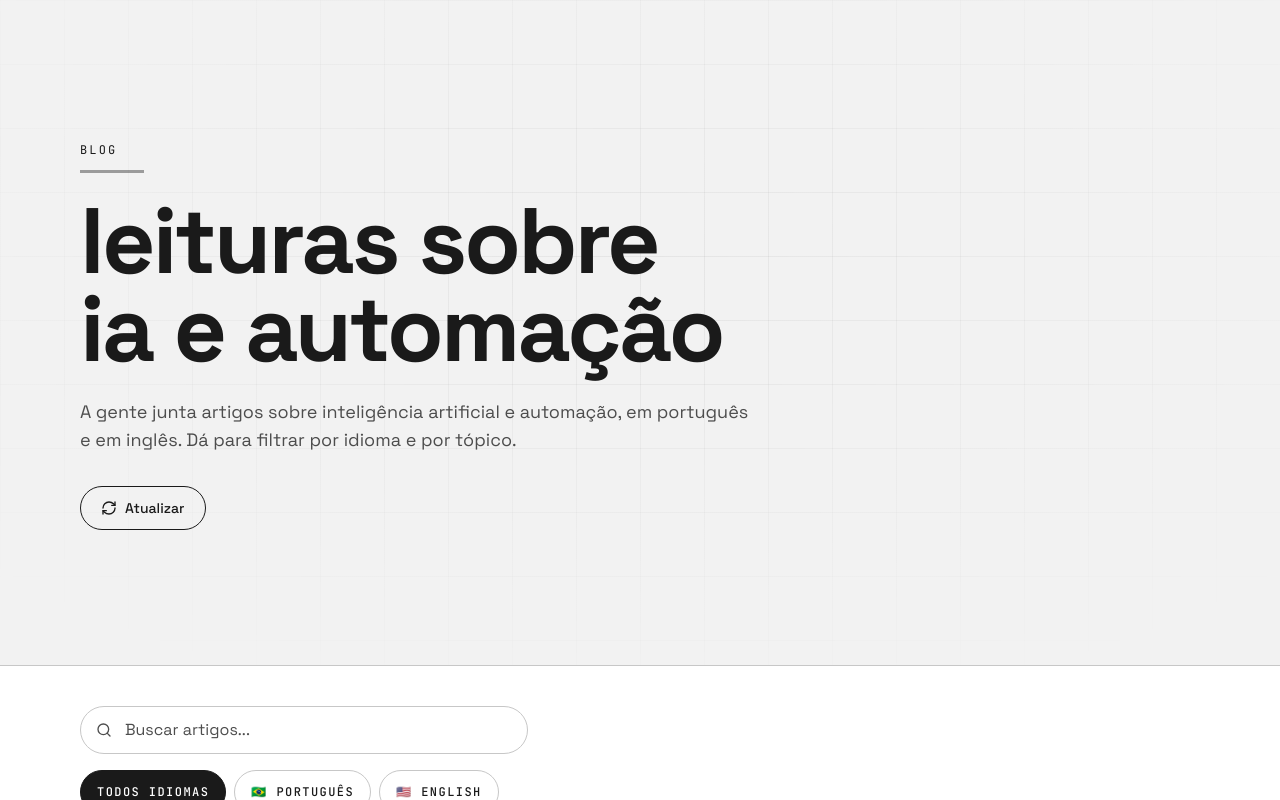
Scenario: BlogPage search and filters › names the clear button, makes it a plain button, and gives it the 44px class (jsdom paints no boxes: e2e measures the target)
The width and height of the screenshot is (1280, 800).
Type "Article" into the field labelled "Buscar artigos" at (304, 730), box [80,706,528,754]
(page scrolled)
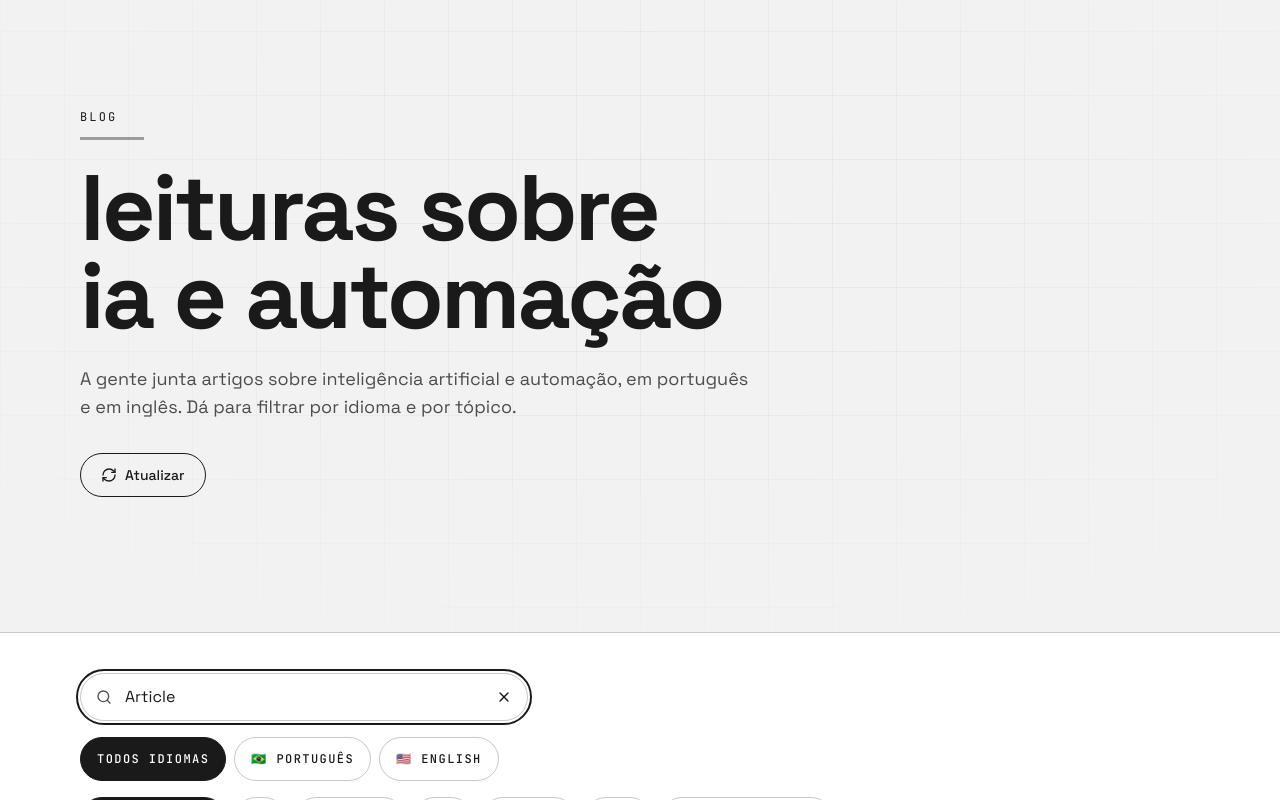
Click the button named "Limpar busca" at (504, 697), box [482,675,526,719]
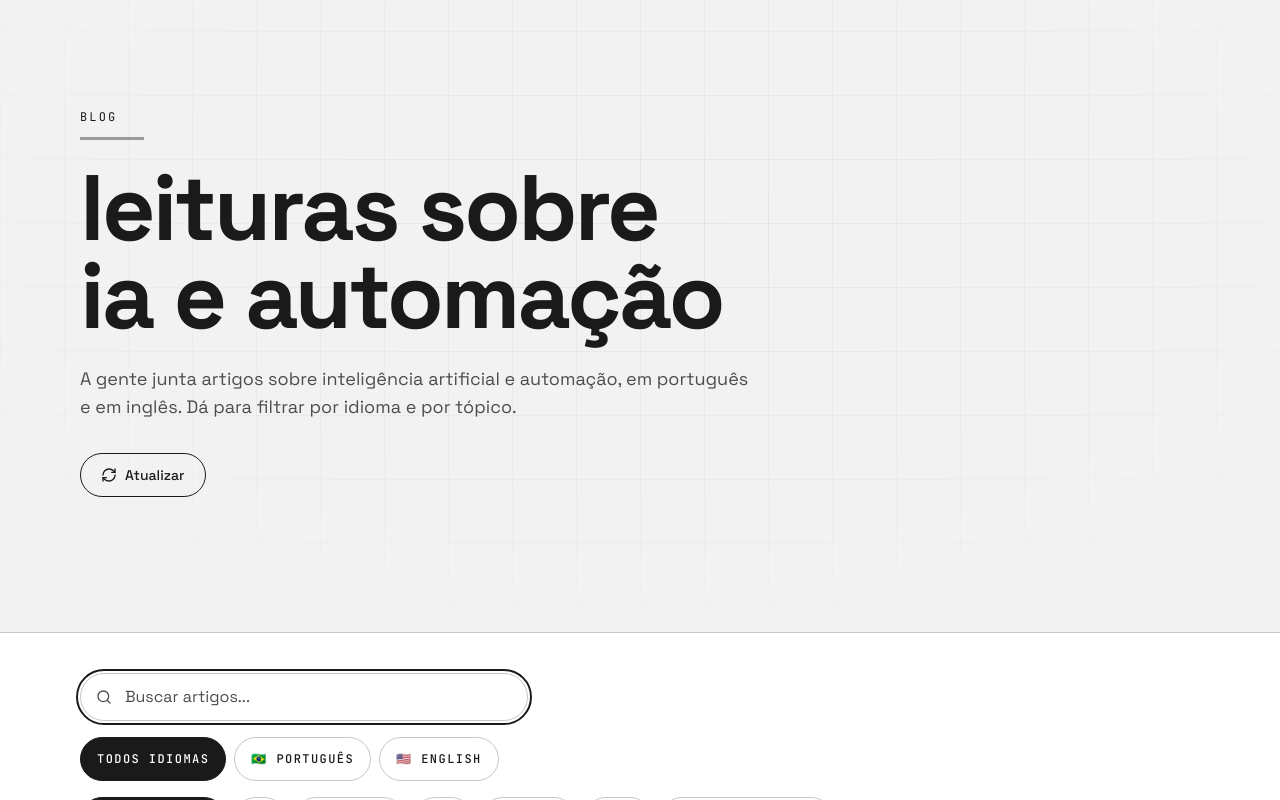
Now the field labelled "Buscar artigos" is empty, box [80,673,528,721]
